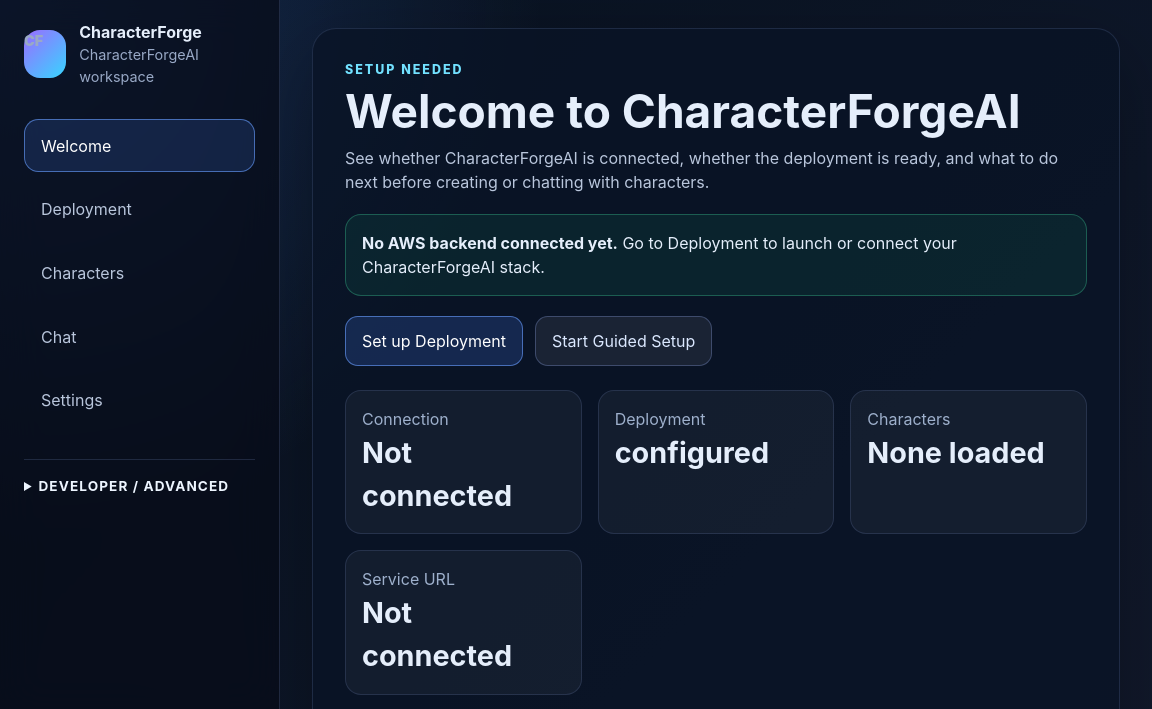
Test: CharacterForge dashboard › merges API setup, AWS readiness, and deployment controls into Deployment
What coordinates should you click on to do the following:
click the button "Deployment"
I would click on:
 (140, 209)
Its box is [24,183,255,236].
(page scrolled)
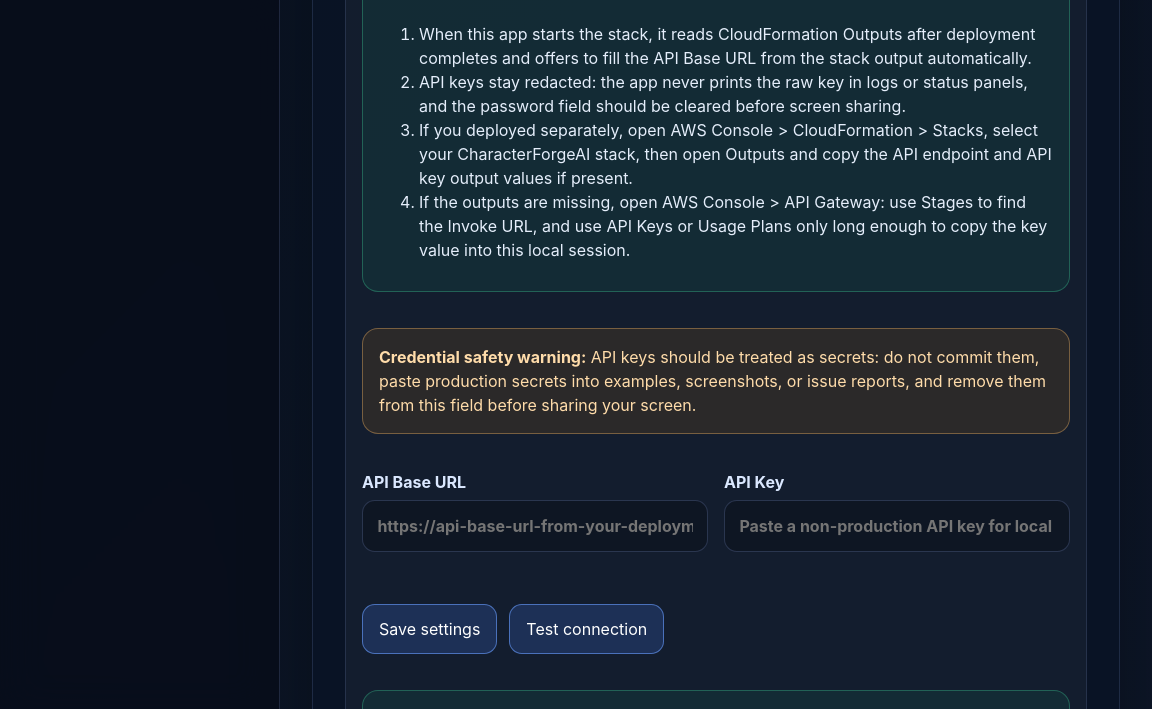
Expected: the field labelled "API Base URL" is shown, [362,500,708,552]
Expected: the password field labelled "API Key" is shown, [724,500,1070,552]
Expected: the text "API keys should be treated as secrets" is shown, [379,347,1046,415]
